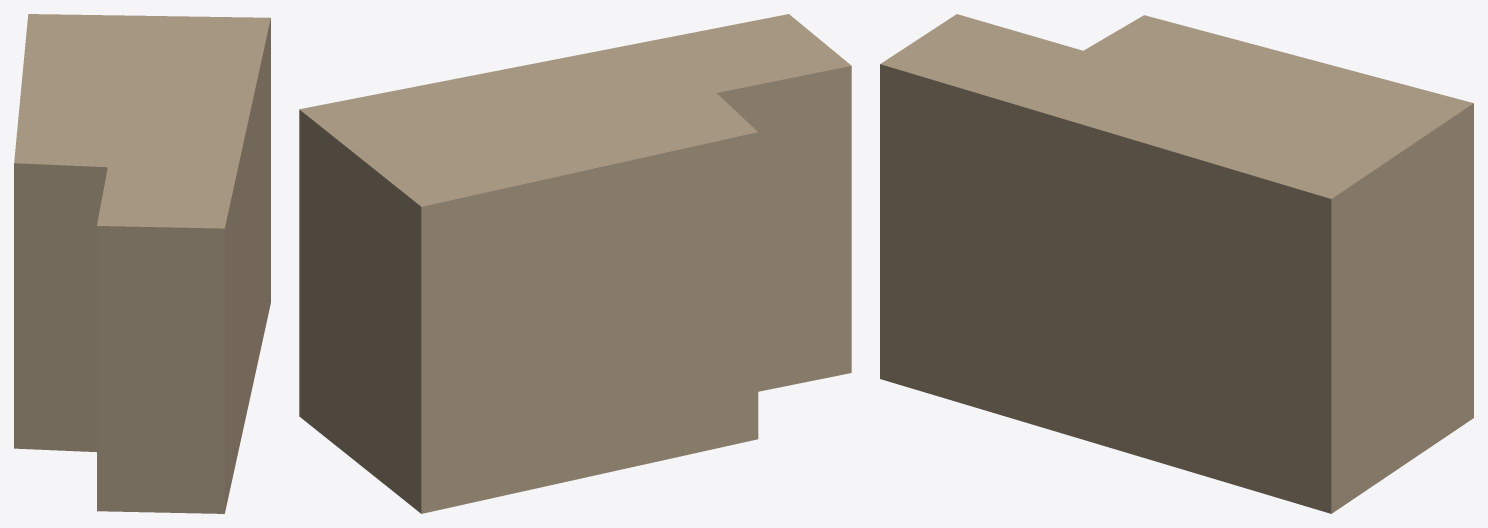
File: bld_101353681.dae
3 renders of one model, left to right at view 1: azimuth 30°, elevation 25°; view 2: azimuth 150°, elevation 25°; view 3: azimuth 270°, elevation 25°, orthographic. The views are drawn at different scales.
Visible parts, largest first — view 1: bld_101353681; view 2: bld_101353681; view 3: bld_101353681.
Part boxes in pixels (x1,y1,x2,y2): bld_101353681: (14, 14, 270, 513); bld_101353681: (299, 14, 851, 513); bld_101353681: (880, 14, 1473, 513).
Size of the model in its own units: 10.08 by 13.67 by 8.
